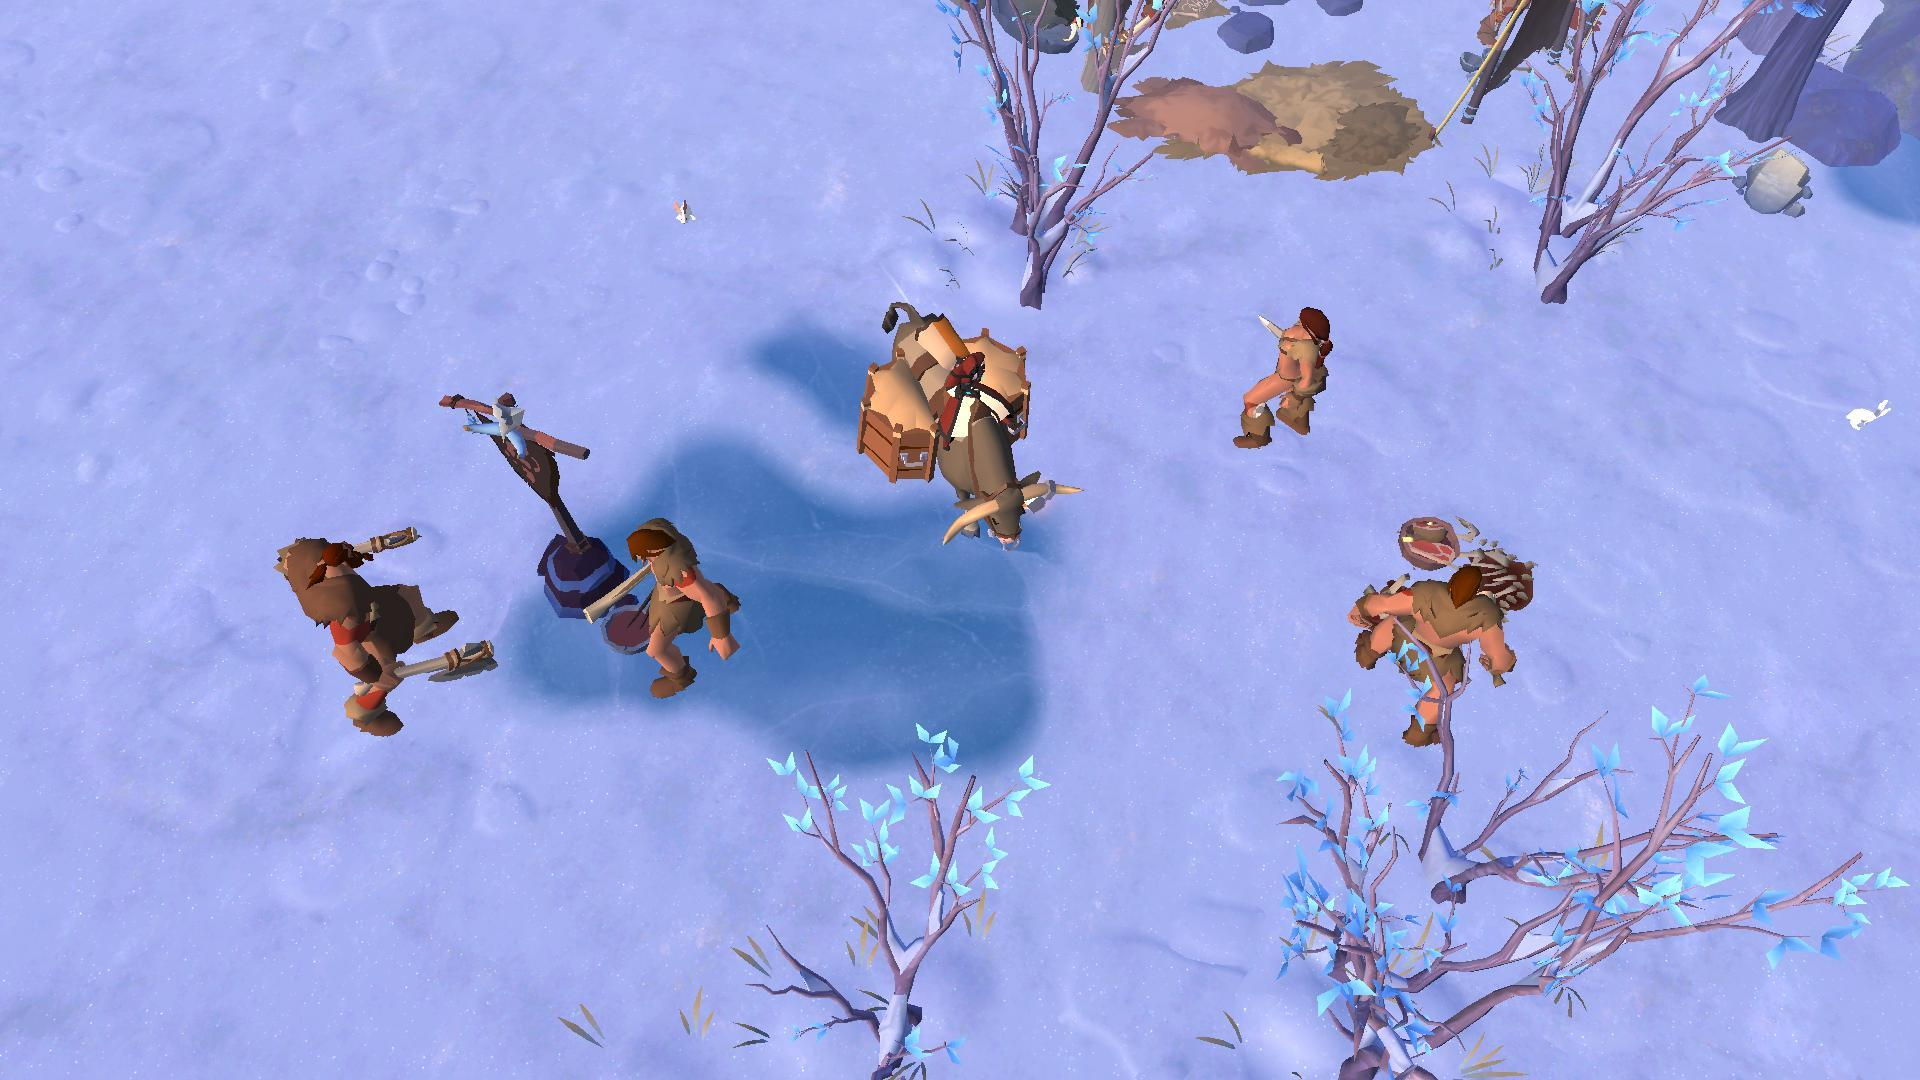enemy_factionKeeper: (270, 526, 506, 733), (1337, 555, 1520, 749), (588, 498, 740, 705), (1229, 293, 1348, 460)
